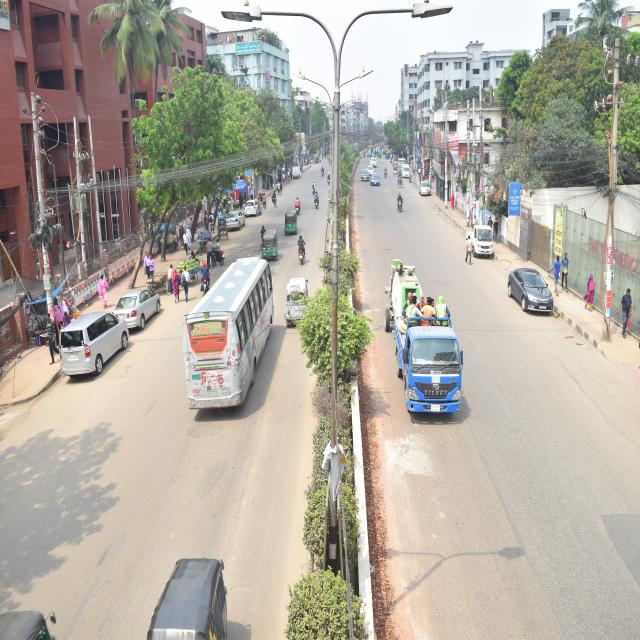bus: (171, 243, 282, 420)
car: (503, 258, 563, 328), (111, 291, 167, 331), (222, 207, 250, 233), (243, 194, 264, 218), (418, 176, 434, 196), (358, 164, 371, 180), (370, 173, 380, 188)
microbus: (61, 308, 132, 390)
motorbike: (205, 239, 227, 265), (394, 186, 411, 212), (199, 259, 210, 295), (298, 237, 310, 264), (314, 190, 322, 212), (293, 199, 302, 214), (308, 182, 314, 195), (318, 165, 326, 172)
pickup-van: (388, 297, 468, 425), (466, 216, 498, 264), (286, 163, 298, 179)
